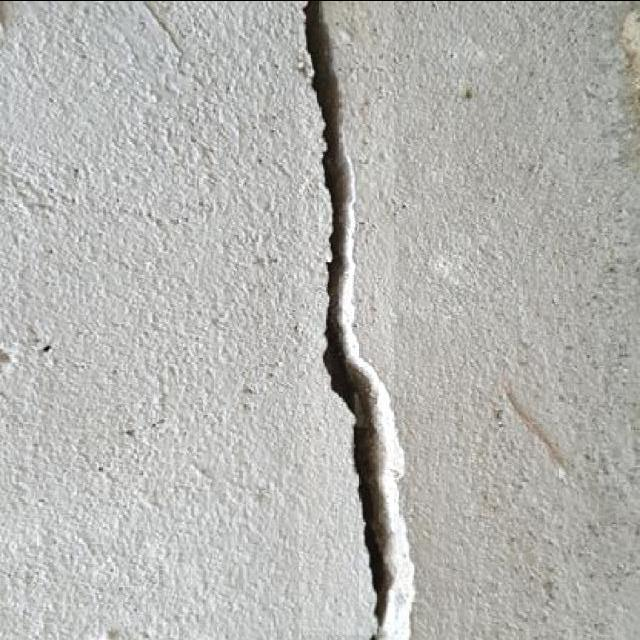Crack: (301, 0, 416, 639)
